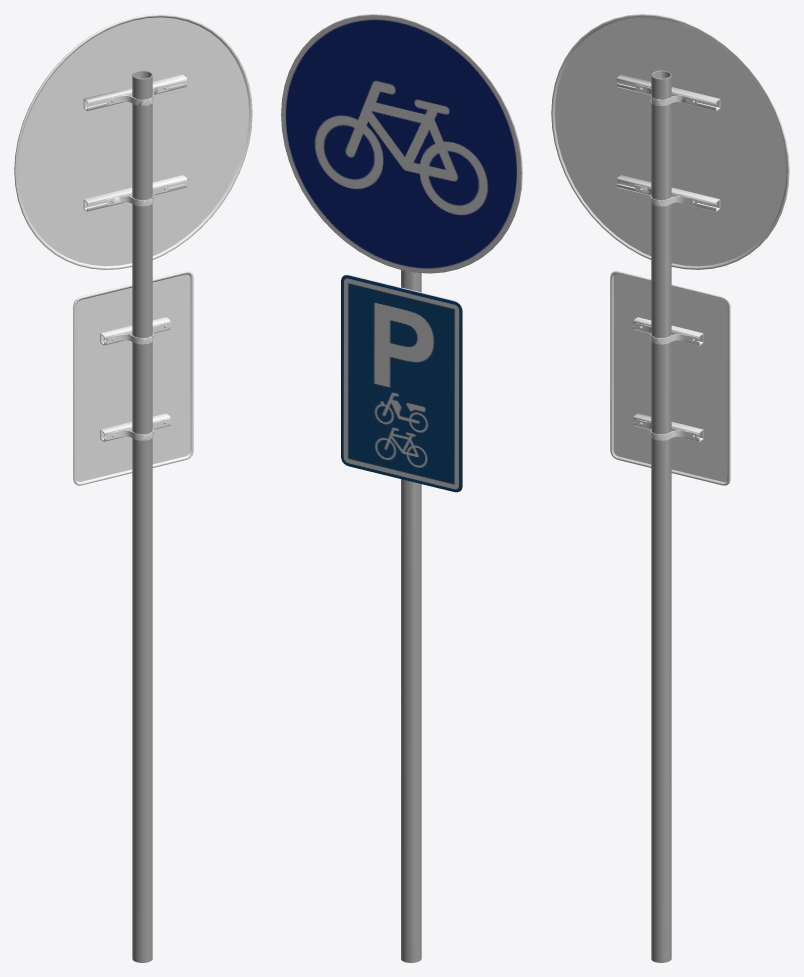
File: o3_segnale_14.glb
The picture shows the model from 3 angles, left to right: view 1: azimuth 30°, elevation 25°; view 2: azimuth 150°, elevation 25°; view 3: azimuth 330°, elevation 25°; orthographic projection.
Parts seen in each view (by area): view 1: sb_modello; view 2: sb_modello; view 3: sb_modello.
Boxes of the visible parts, bbox=[...] form: sb_modello: bbox=[14, 14, 252, 962]; sb_modello: bbox=[281, 14, 522, 962]; sb_modello: bbox=[551, 14, 789, 962].
Bounding box in the file's own units: 0.7672 × 2.88 × 0.0845.
Materials: 6 (2 with a texture image).
